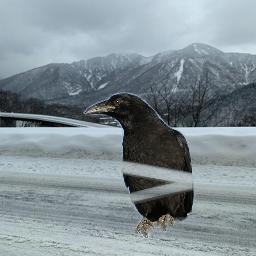Crow: (83, 92, 196, 238)
